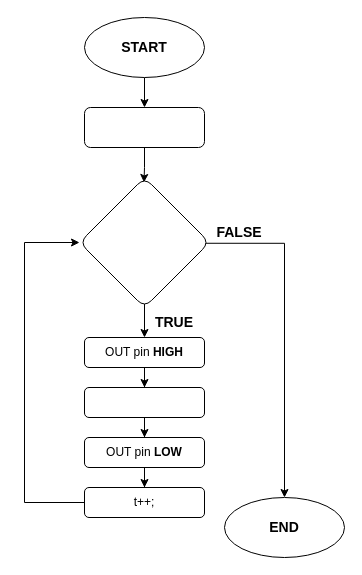
Some shapes in this 362 by 575 pixel diagram are drawn without their labels. Here are the shapes that lost their labels. From the top down, the centre of each, then its label:
[144,127]: uint8_t num; uint8_t t=0;
[144,242]: if t <= num
[144,402]: timer cycle
